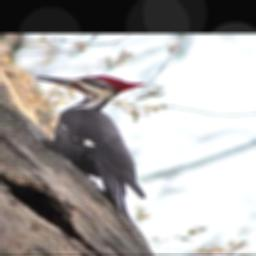Woodpecker: (29, 75, 148, 217)
